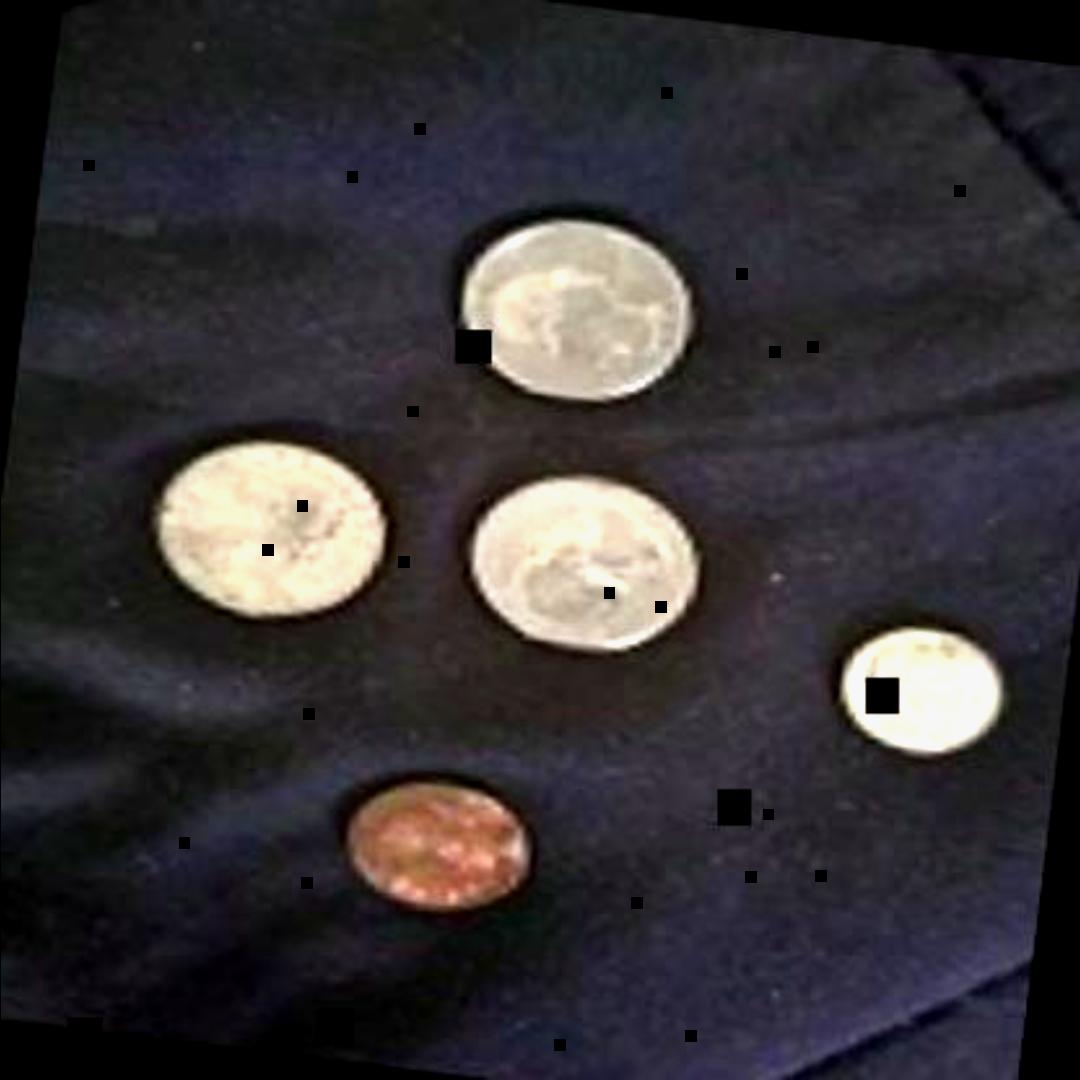Dime: (816, 602, 1016, 768)
Penny: (324, 742, 556, 939)
Quarter: (116, 414, 404, 647), (433, 450, 723, 674), (435, 188, 712, 420)
